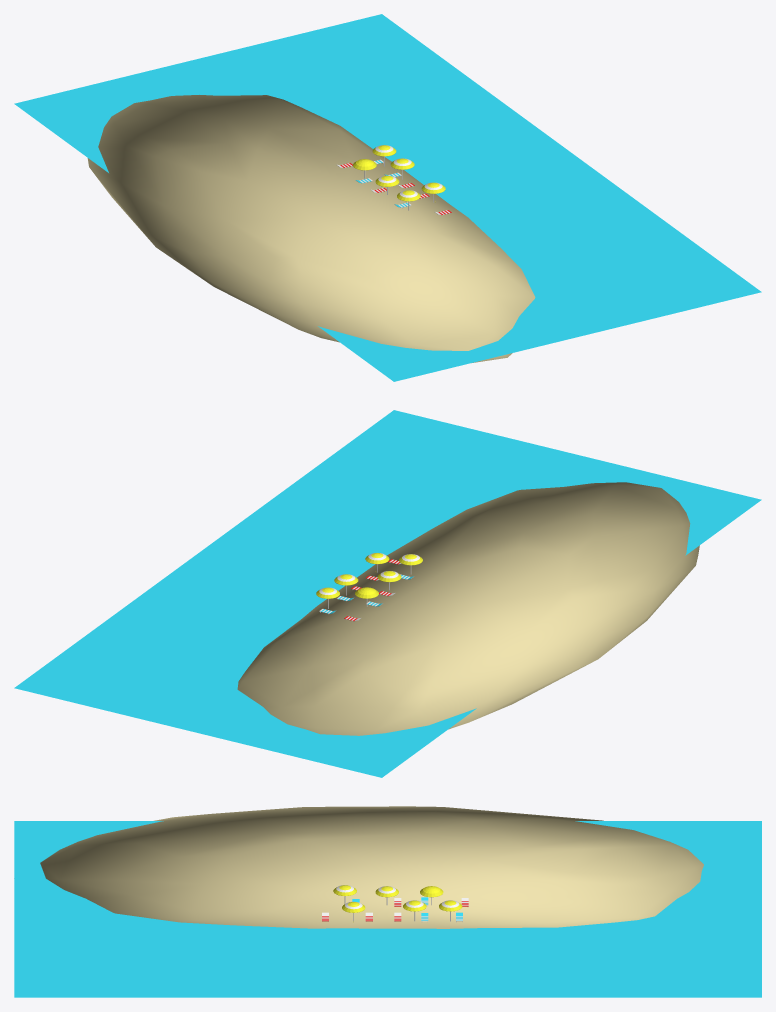
Rendered from 8VLdvsxYaEg.glb.
The picture shows the model from 3 angles, top to bottom: view 1: azimuth 30°, elevation 25°; view 2: azimuth 150°, elevation 25°; view 3: azimuth 270°, elevation 25°; orthographic projection.
Visible parts, largest first — view 1: Plane006, Sphere002, Box055, Cylinder013; view 2: Plane006, Sphere002, Box055, Cylinder013; view 3: Plane006, Sphere002, Box055, Cylinder013.
Boxes of the visible parts, x1=… form: Plane006: x1=14, y1=14, x2=761, y2=381; Sphere002: x1=87, y1=95, x2=535, y2=363; Box055: x1=353, y1=145, x2=445, y2=202; Cylinder013: x1=336, y1=145, x2=450, y2=214; Plane006: x1=14, y1=410, x2=761, y2=777; Sphere002: x1=237, y1=482, x2=699, y2=735; Box055: x1=316, y1=553, x2=422, y2=598; Cylinder013: x1=319, y1=553, x2=419, y2=621; Plane006: x1=14, y1=821, x2=761, y2=997; Sphere002: x1=40, y1=806, x2=703, y2=928; Box055: x1=333, y1=885, x2=462, y2=922; Cylinder013: x1=322, y1=885, x2=468, y2=922.
Bounding box in the file's own units: 12.3 × 1 × 19.99.
